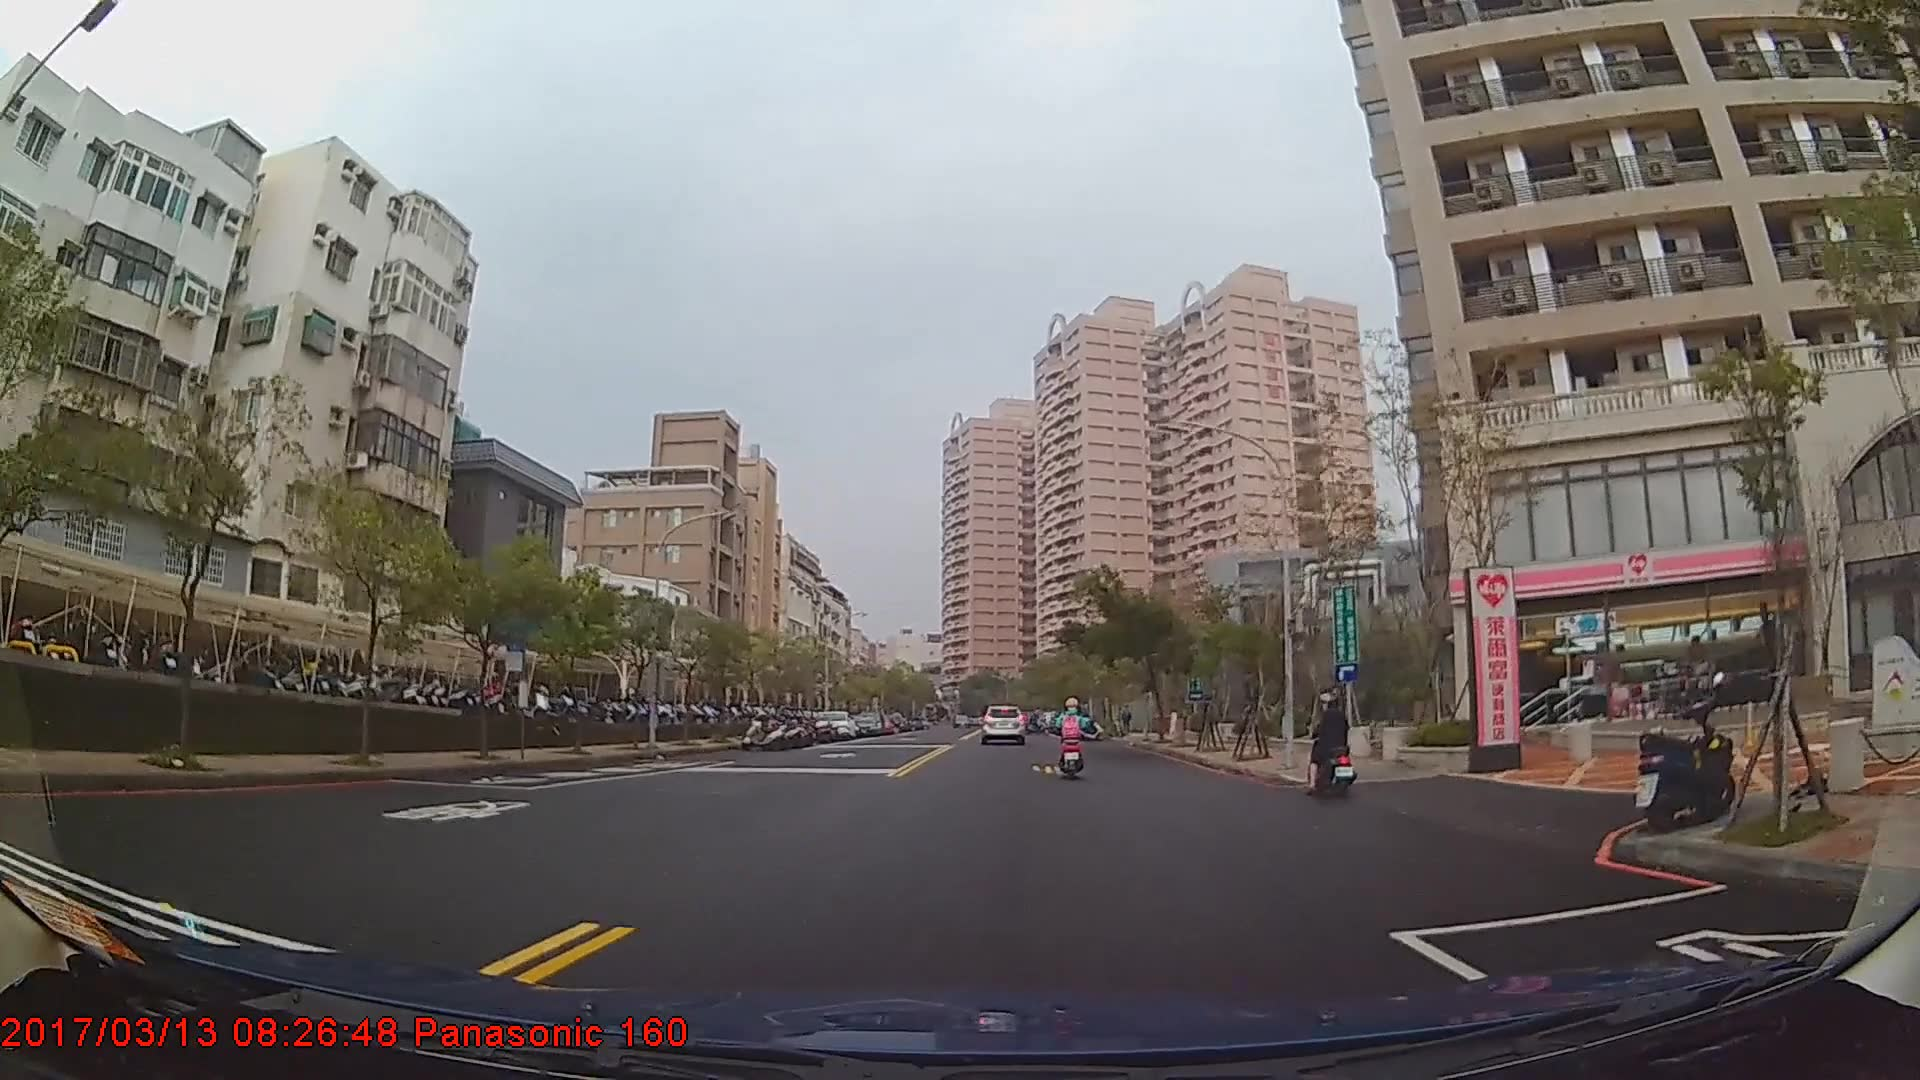rider: (1308, 688, 1357, 791), (1055, 698, 1093, 780)
vehicle: (977, 703, 1028, 742), (814, 709, 854, 738)
